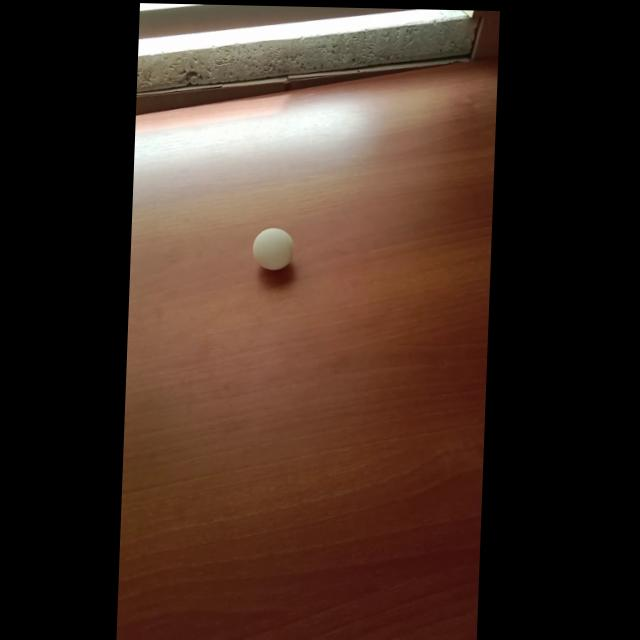white ball: (251, 227, 295, 272)
